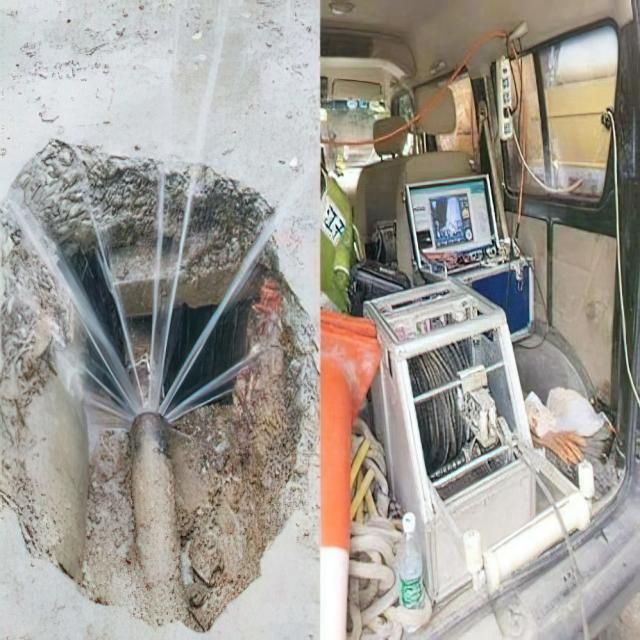leak: (11, 201, 159, 426), (149, 4, 228, 411), (159, 216, 276, 413), (90, 210, 144, 405), (165, 346, 261, 422)
